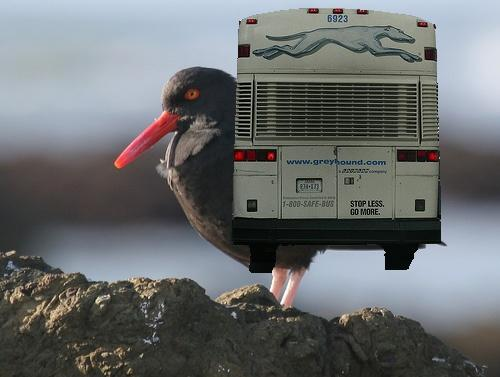tampered: (232, 9, 441, 273)
